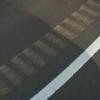Crosswalk: (1, 20, 97, 89)
